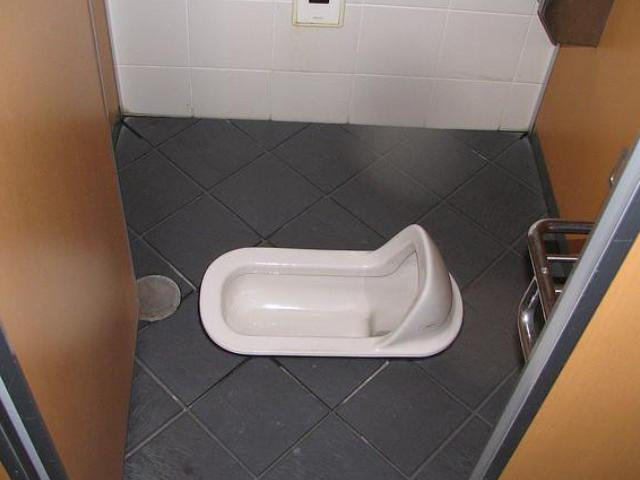Sanitario: (196, 224, 464, 354)
